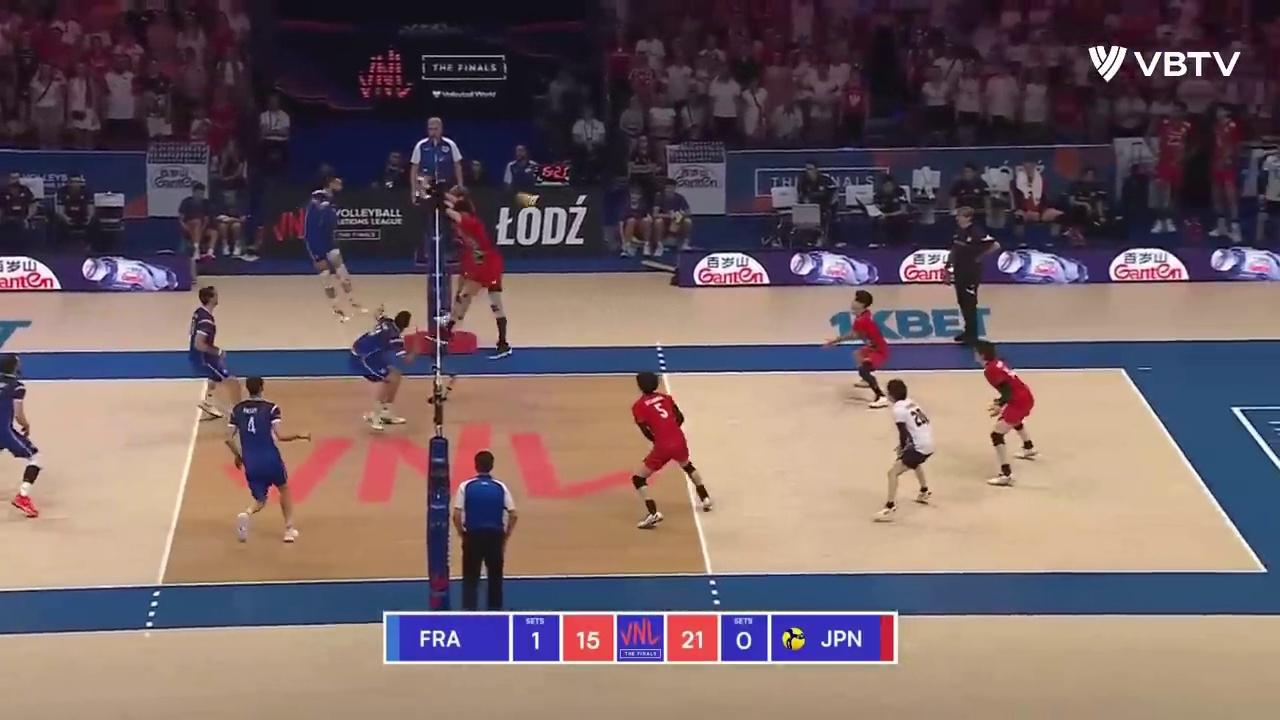ball: (515, 192, 533, 207)
